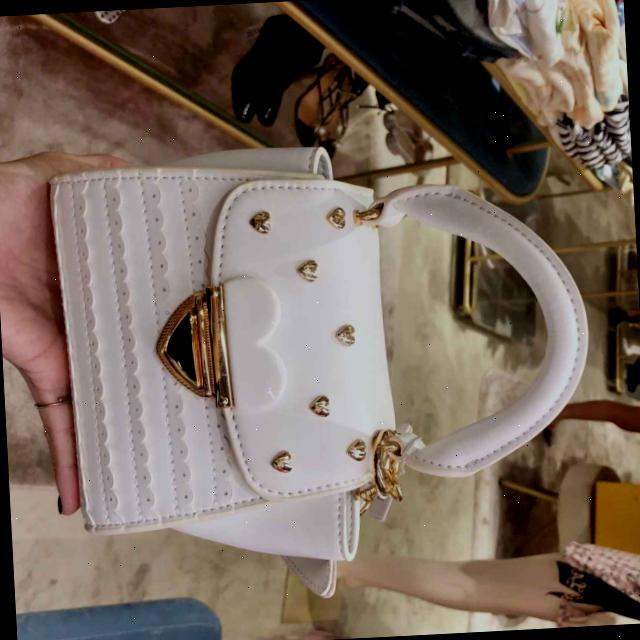handbag: (38, 134, 450, 594)
